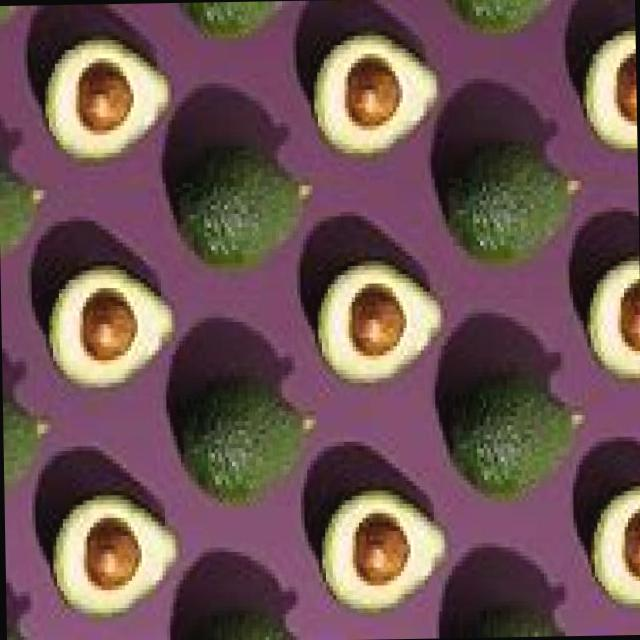avocado: (303, 18, 457, 169), (43, 259, 184, 393), (46, 487, 184, 622), (186, 372, 318, 508), (42, 37, 180, 165), (446, 146, 584, 272), (316, 261, 448, 387), (448, 376, 580, 499), (318, 491, 446, 615), (188, 152, 314, 264)
